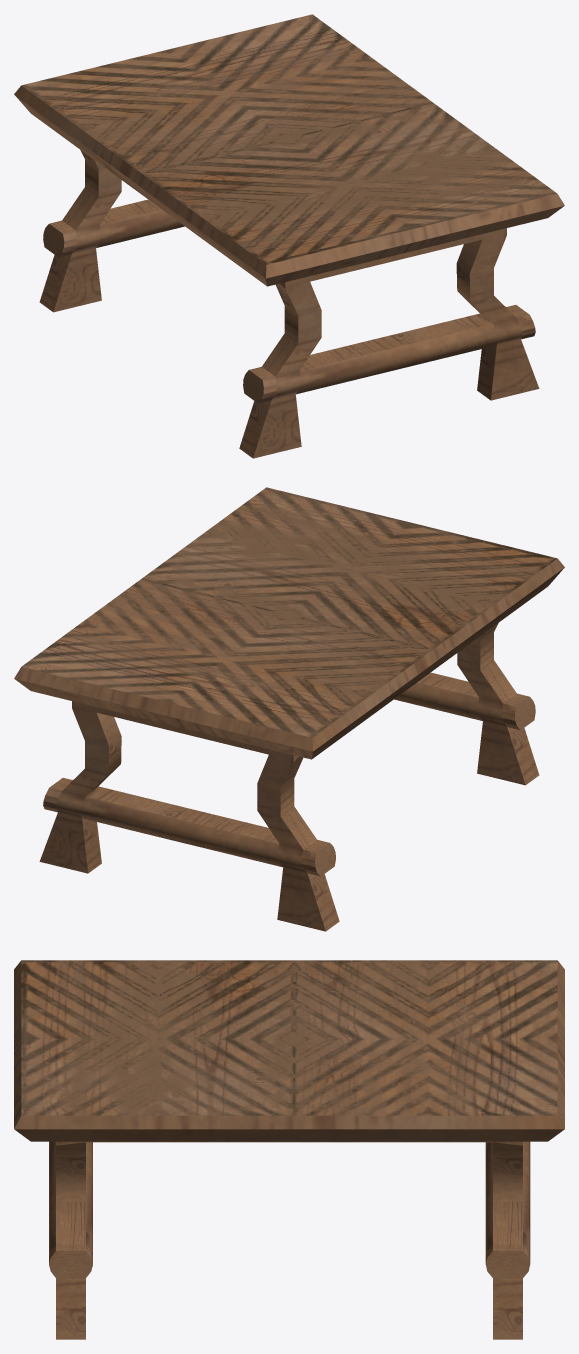
Rendered from DiningTable.fbx.
The picture shows the model from 3 angles, top to bottom: view 1: azimuth 30°, elevation 25°; view 2: azimuth 150°, elevation 25°; view 3: azimuth 270°, elevation 25°; orthographic projection. The views are drawn at different scales.
Visible parts, largest first — view 1: pCube34; view 2: pCube34; view 3: pCube34.
Part boxes in pixels (box(x1,y1,x2,y2)): pCube34: box(14, 14, 564, 458); pCube34: box(14, 487, 564, 931); pCube34: box(14, 960, 564, 1339).
Size of the model in its own units: 1.46 by 0.959 by 2.13.
